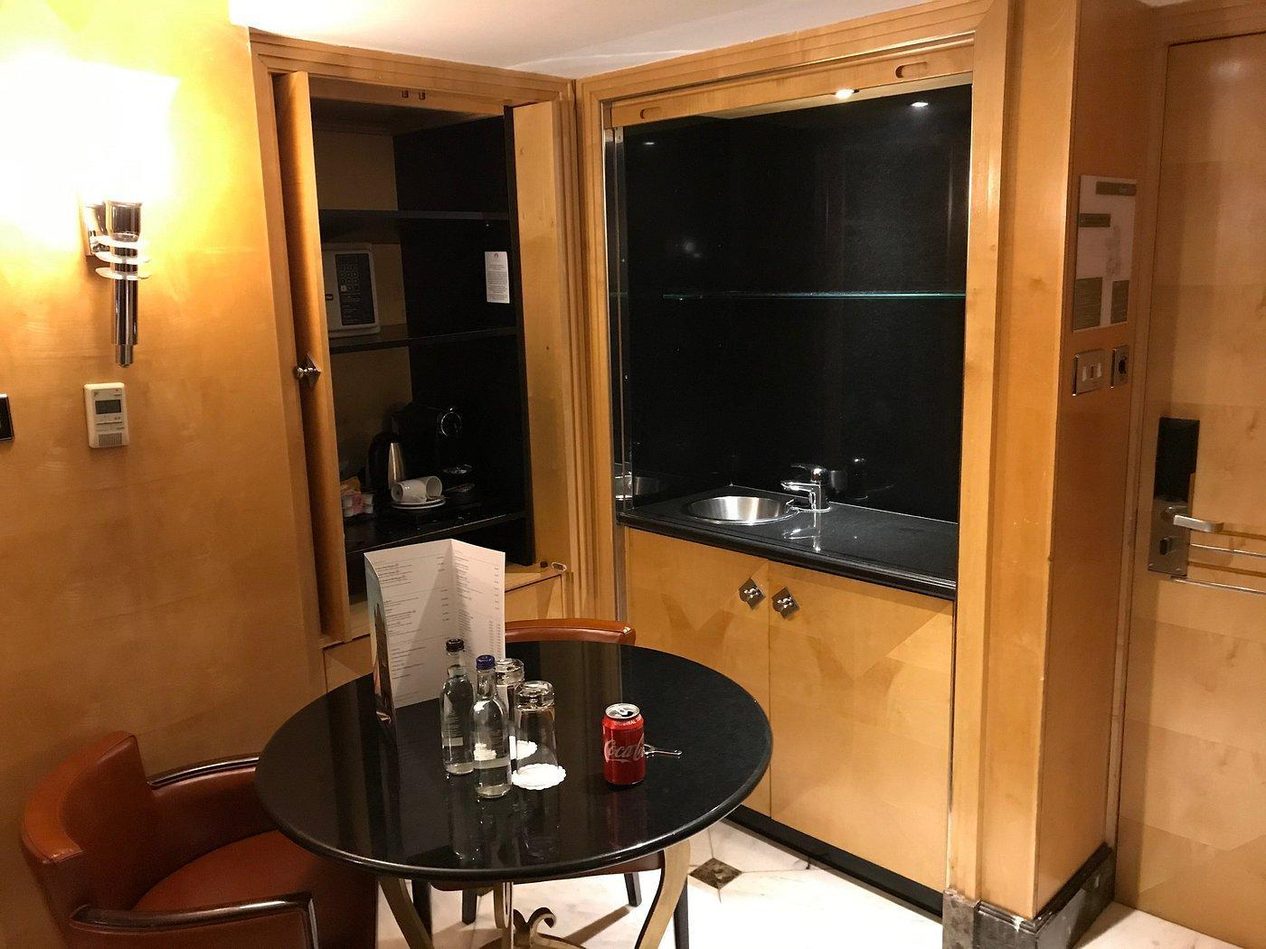chair: (12, 735, 366, 941)
clean_sink: (677, 456, 849, 553)
organized table: (252, 630, 811, 949)
